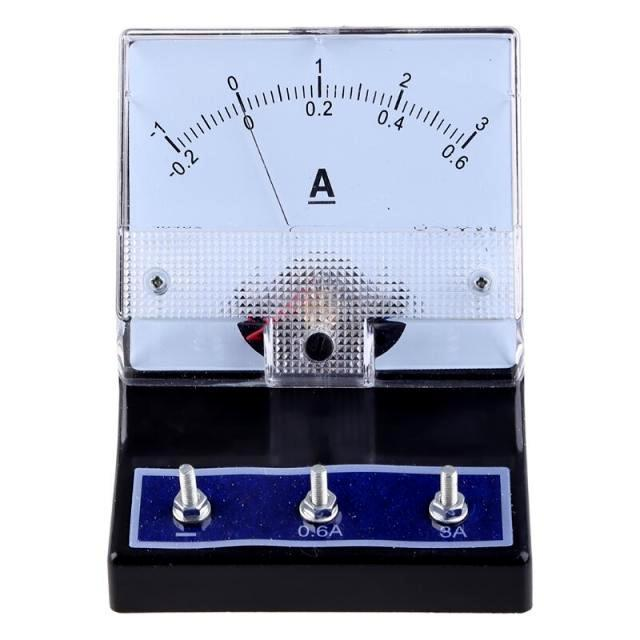Needle_Tip: (207, 77, 272, 119)
Needle_base: (267, 286, 367, 411)
max_value: (446, 100, 524, 145)
min_value: (121, 102, 191, 149)
